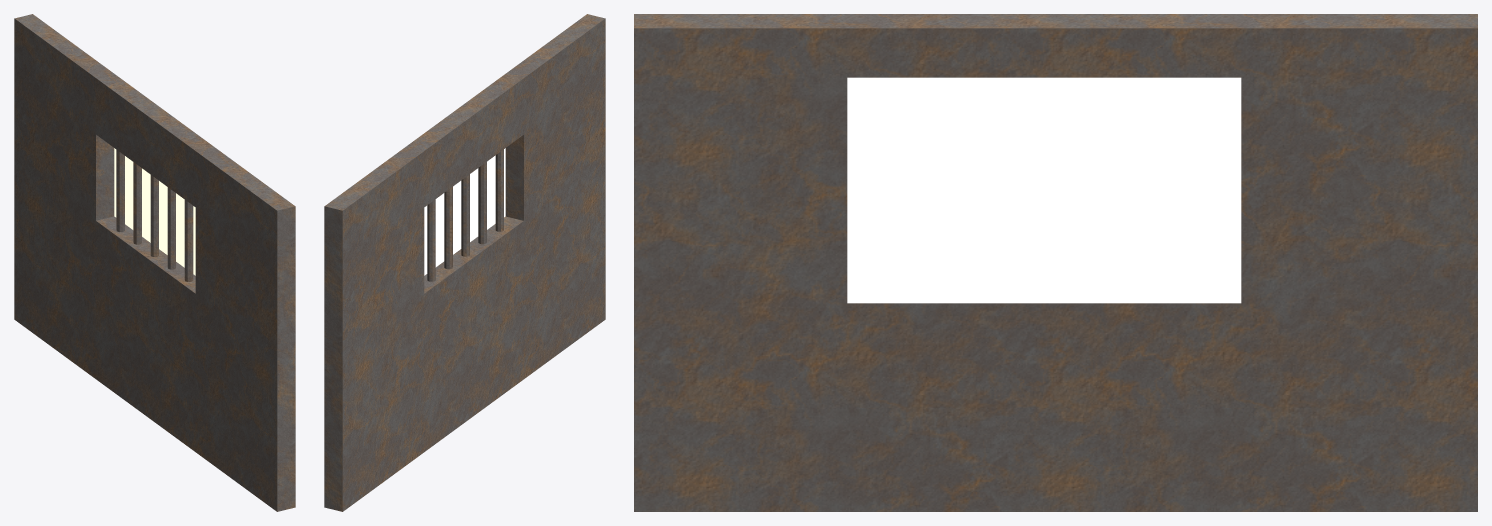
Rendered from basement_door.glb.
The picture shows the model from 3 angles, left to right: view 1: azimuth 30°, elevation 25°; view 2: azimuth 150°, elevation 25°; view 3: azimuth 270°, elevation 25°; orthographic projection. The views are drawn at different scales.
Visible parts, largest first — view 1: BasementDoor-col, WindowLight; view 2: BasementDoor-col, WindowLight; view 3: BasementDoor-col, WindowLight.
Boxes of the visible parts, left/top/right/bottom form: BasementDoor-col: left=14, top=14, right=295, bottom=511; WindowLight: left=114, top=148, right=195, bottom=275; BasementDoor-col: left=324, top=14, right=605, bottom=511; WindowLight: left=424, top=148, right=505, bottom=275; BasementDoor-col: left=634, top=14, right=1477, bottom=511; WindowLight: left=847, top=77, right=1241, bottom=303.
Size of the model in its own units: 0.2076 by 2.92 by 4.62.
2 materials, 1 textured.
